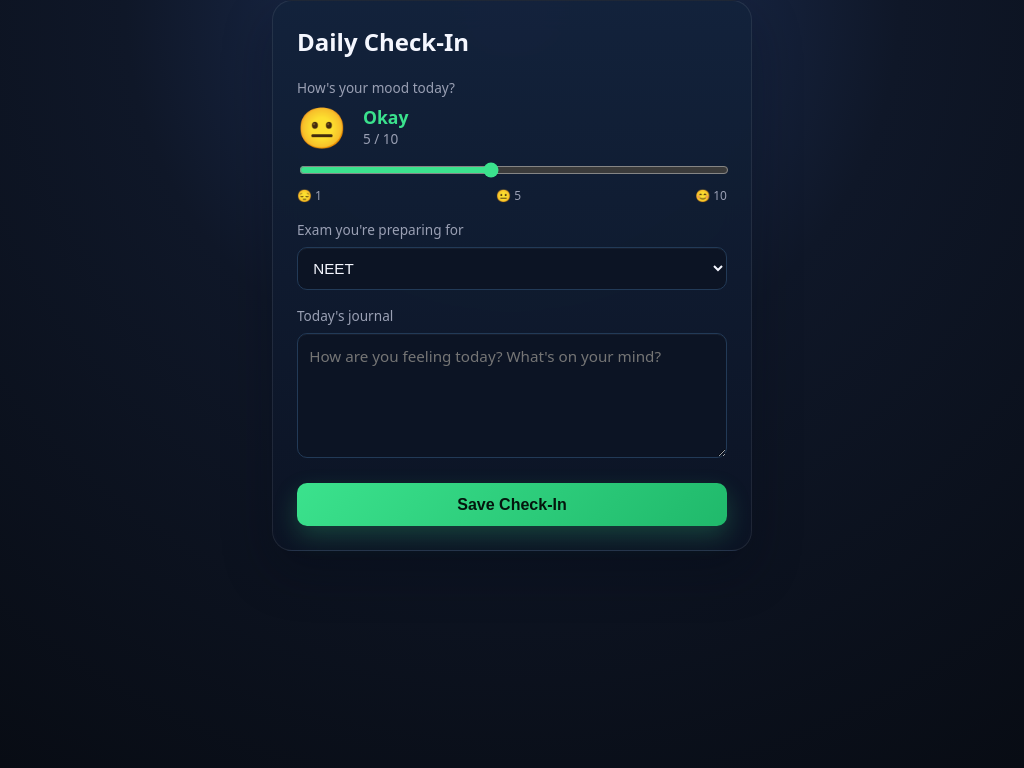
MoodLogger › shows a saved confirmation after submitting
The image size is (1024, 768).
Step 1. Click the button "Save Check-In" → [512, 505], box [297,483,727,526]
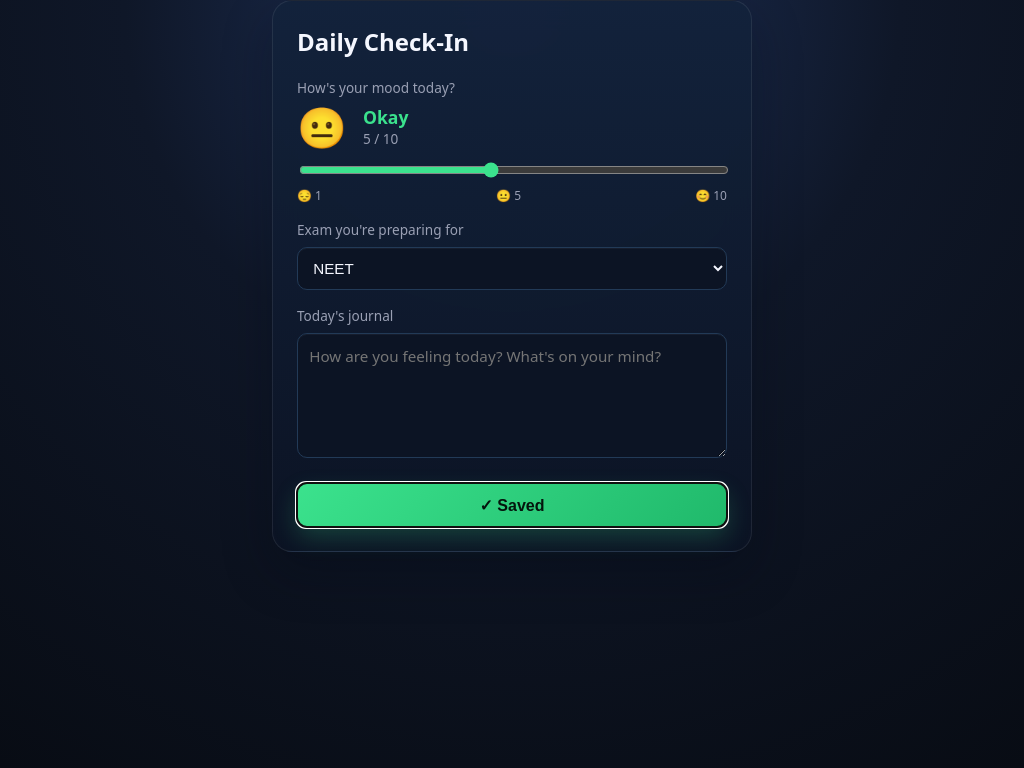
expect the button "✓ Saved" is shown: met, box [297,483,727,527]
